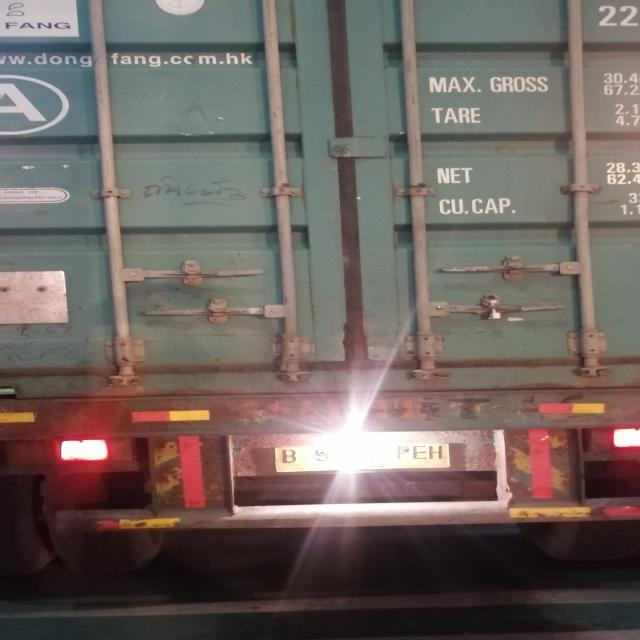seal: (486, 299, 504, 320)
